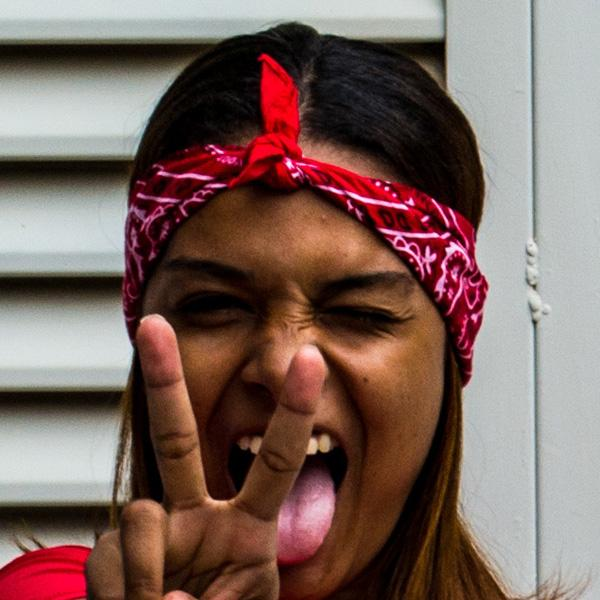Eyes: (166, 281, 262, 333), (309, 290, 406, 339)
